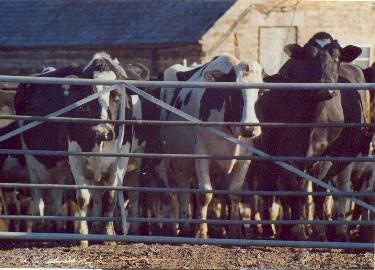cow: (18, 53, 151, 252), (258, 31, 373, 251), (160, 53, 266, 246)
